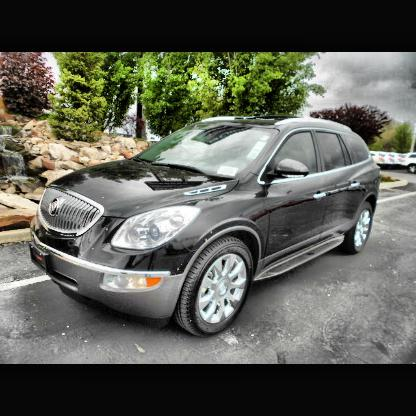Buick Enclave SUV 2012: (32, 118, 380, 339)
